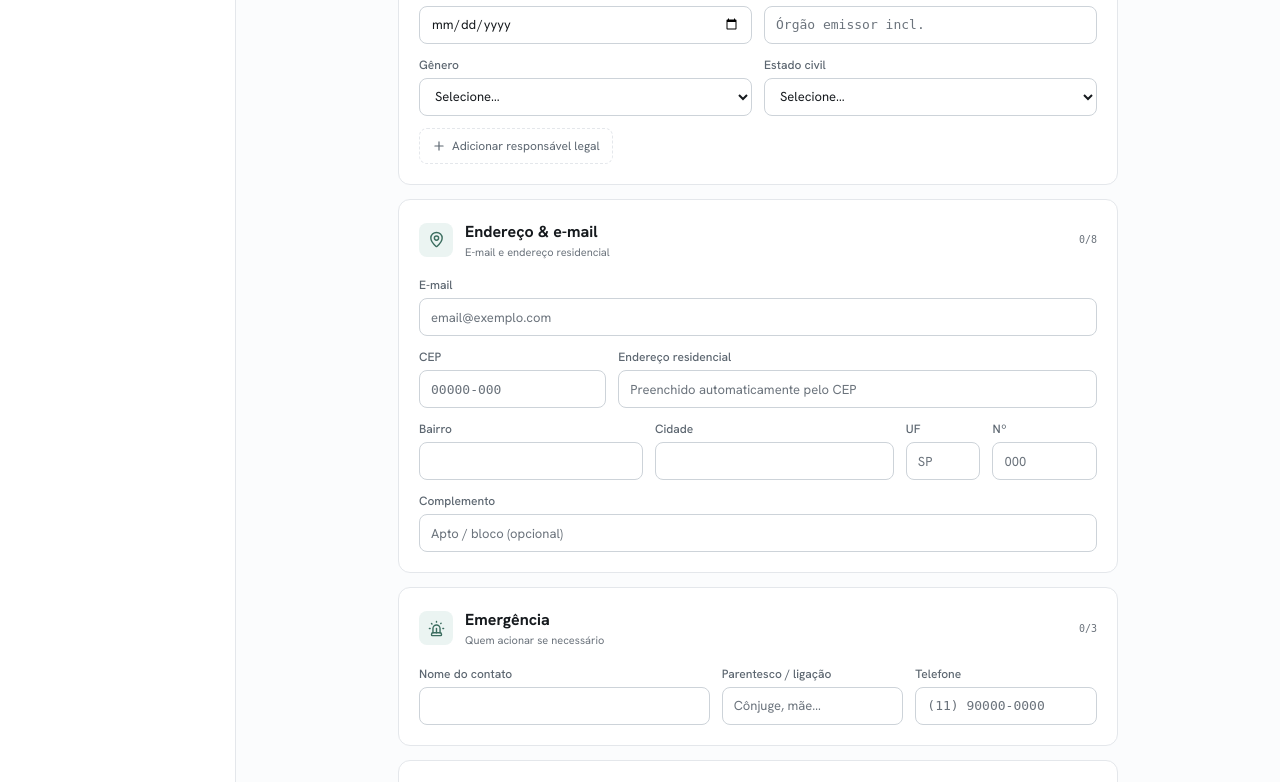
Test: PatientForm — novo › autopreenche o endereço ao digitar um CEP válido (via BFF)
This screenshot has width=1280, height=782.
(page scrolled)
Type "01310100" into the field with placeholder "00000-000" at (513, 389), box [419, 370, 606, 408]
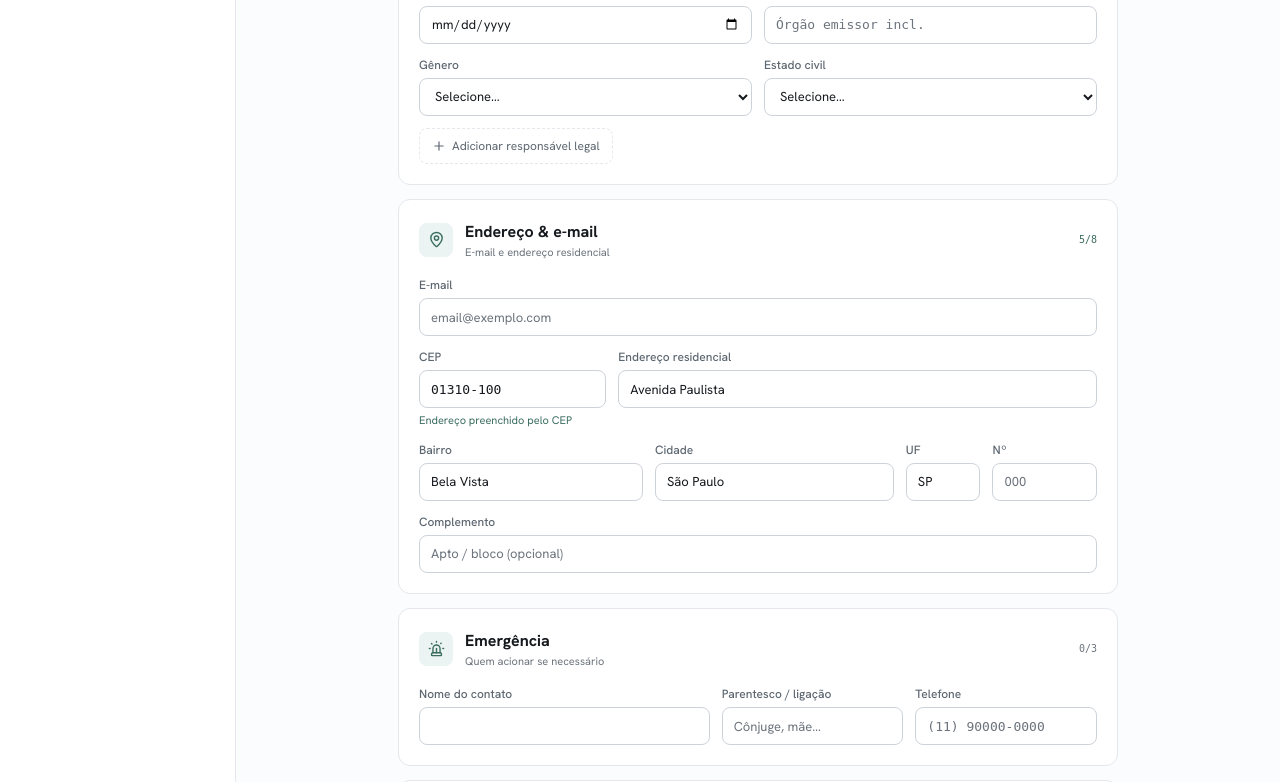
Check: the field with placeholder "Preenchido automaticamente pelo CEP" holds "Avenida Paulista", box [618, 370, 1097, 408]
